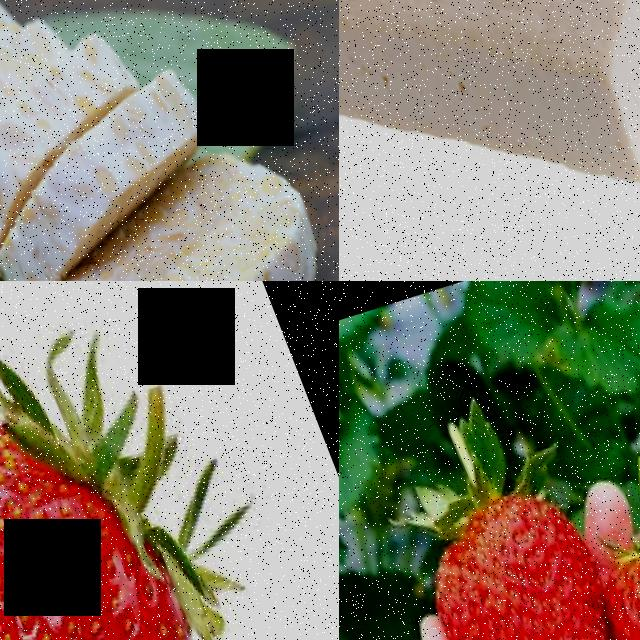strawberry: (0, 336, 276, 640), (403, 458, 640, 640)
tempeh: (45, 111, 339, 281)
tofu: (339, 0, 640, 281)
